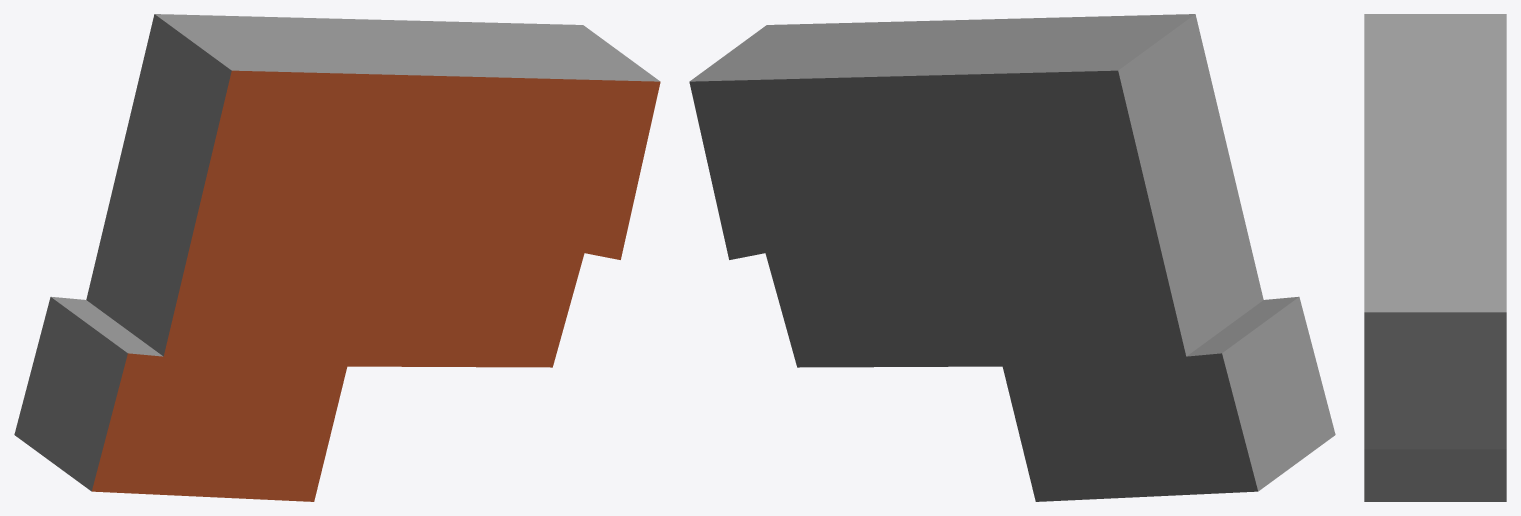
The model's file is construction_1331_assumed_A_Casa_h6m.obj.
3 renders of one model, left to right at view 1: azimuth 30°, elevation 25°; view 2: azimuth 150°, elevation 25°; view 3: azimuth 270°, elevation 25°, orthographic. The views are drawn at different scales.
Parts seen in each view (by area): view 1: construction_1331_assumed_A_Casa; view 2: construction_1331_assumed_A_Casa; view 3: construction_1331_assumed_A_Casa.
Boxes of the visible parts, left/top/right/bottom form: construction_1331_assumed_A_Casa: left=14, top=14, right=660, bottom=501; construction_1331_assumed_A_Casa: left=689, top=14, right=1335, bottom=501; construction_1331_assumed_A_Casa: left=1364, top=14, right=1506, bottom=501.
Bounding box in the file's own units: 25.47 × 19.31 × 6.
